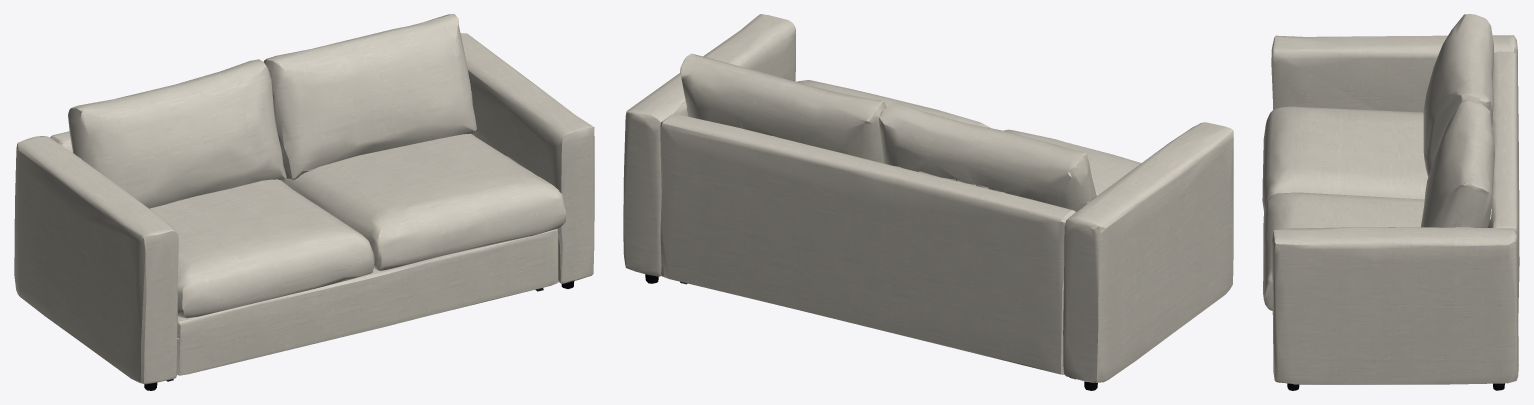
3 views of the same model, side by side, from view 1: azimuth 30°, elevation 25°; view 2: azimuth 150°, elevation 25°; view 3: azimuth 270°, elevation 25° (orthographic). The views are drawn at different scales.
Visible parts, largest first — view 1: ProcessedMeshNode; view 2: ProcessedMeshNode; view 3: ProcessedMeshNode.
Part boxes in pixels (x1=…): ProcessedMeshNode: x1=14, y1=14, x2=594, y2=390; ProcessedMeshNode: x1=623, y1=14, x2=1233, y2=390; ProcessedMeshNode: x1=1262, y1=14, x2=1519, y2=390.
Bounding box in the file's own units: 1.9 × 0.8299 × 0.9801.
Materials: 3 (3 with a texture image).
